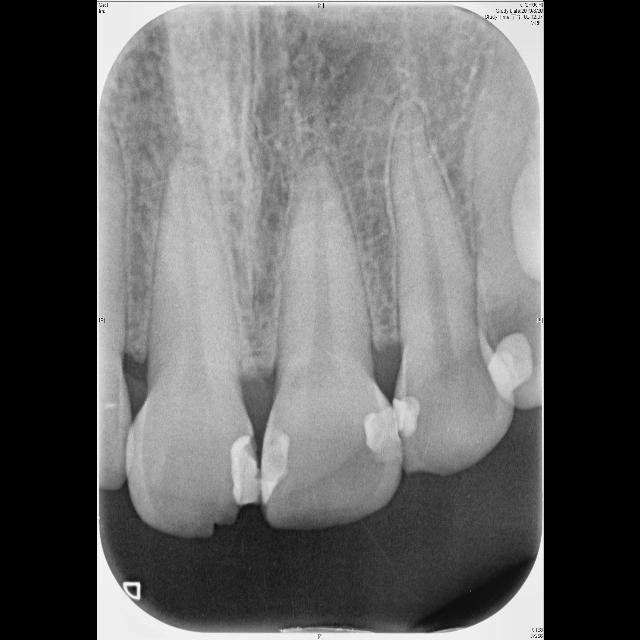teeth: (126, 151, 259, 537), (261, 155, 399, 526), (386, 103, 511, 474)
